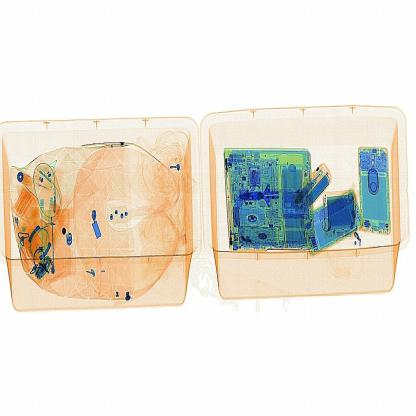gun: (227, 164, 289, 214)
